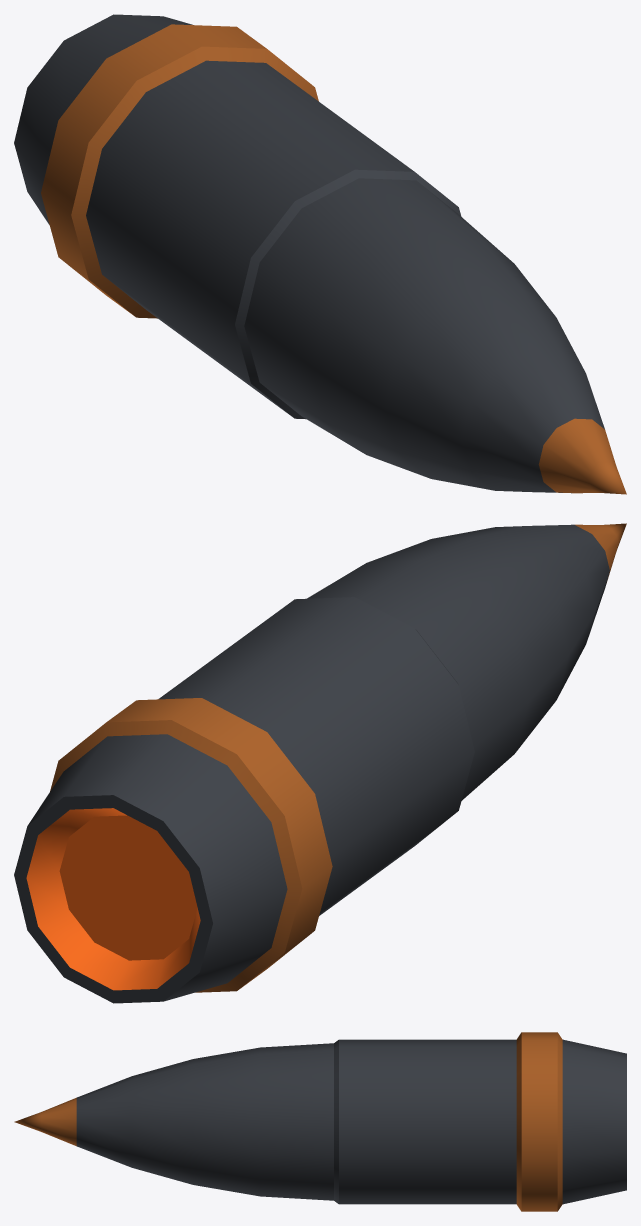
File: shell_howitzer.fbx
The picture shows the model from 3 angles, top to bottom: view 1: azimuth 30°, elevation 25°; view 2: azimuth 150°, elevation 25°; view 3: azimuth 270°, elevation 25°; orthographic projection. The views are drawn at different scales.
Visible parts, largest first — view 1: Shell_Howitzer; view 2: Shell_Howitzer; view 3: Shell_Howitzer.
Boxes of the visible parts, box(x1,y1,x2,y2) form: Shell_Howitzer: box(14, 14, 626, 494); Shell_Howitzer: box(14, 523, 626, 1003); Shell_Howitzer: box(14, 1032, 626, 1211).
Size of the model in its own units: 0.294 by 0.294 by 1.
